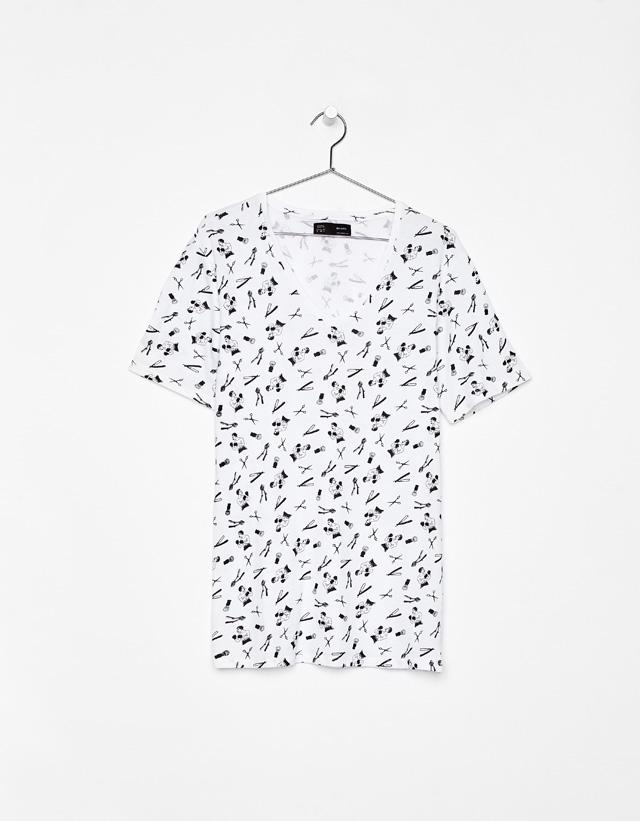teeshirt: (117, 186, 552, 776)
